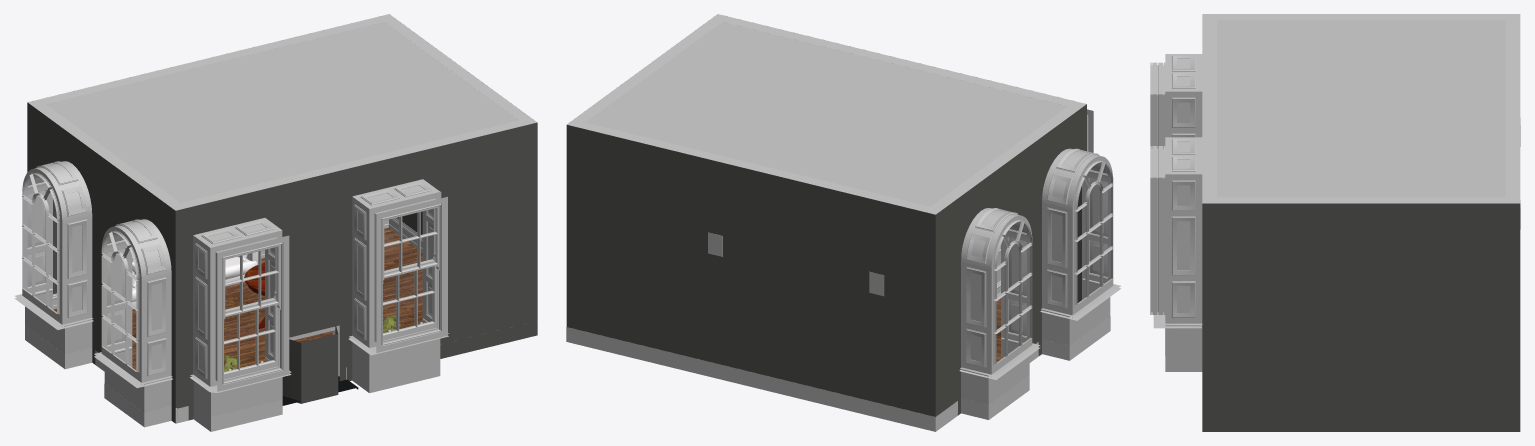
The model's file is grey-white-room.glb.
3 renders of one model, left to right at view 1: azimuth 30°, elevation 25°; view 2: azimuth 150°, elevation 25°; view 3: azimuth 270°, elevation 25°, orthographic. The views are drawn at different scales.
Visible parts, largest first — view 1: Paneling_0001, Floor; view 2: Paneling_0001; view 3: Paneling_0001.
Part boxes in pixels (x1,y1,x2,y2): Paneling_0001: (14,14,537,431); Floor: (53,227,422,371); Paneling_0001: (566,14,1121,431); Paneling_0001: (1150,14,1520,431).
Bounding box in the file's own units: 5.64 × 2.88 × 4.23.
Materials: 6 (6 with a texture image).
